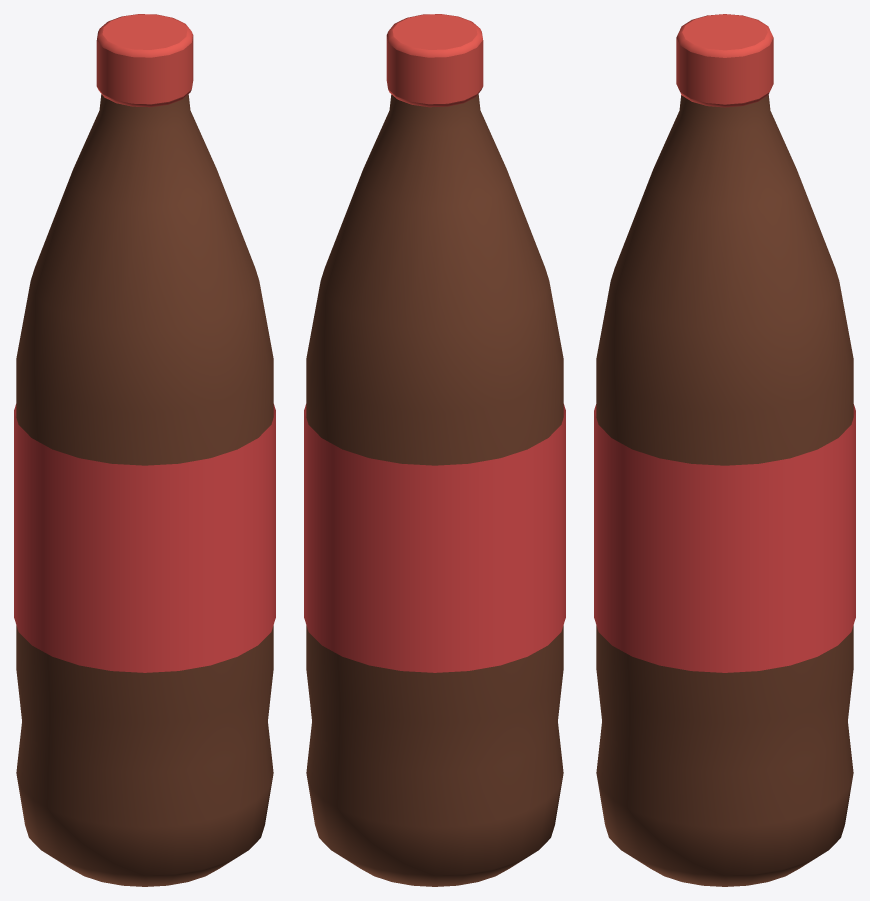
Rendered from ColaBottle.fbx.
3 renders of one model, left to right at view 1: azimuth 30°, elevation 25°; view 2: azimuth 150°, elevation 25°; view 3: azimuth 270°, elevation 25°, orthographic.
Parts seen in each view (by area): view 1: ColaBottle; view 2: ColaBottle; view 3: ColaBottle.
Boxes of the visible parts, left/top/right/bottom form: ColaBottle: left=14, top=14, right=275, bottom=886; ColaBottle: left=304, top=14, right=565, bottom=886; ColaBottle: left=594, top=14, right=855, bottom=886.
Size of the model in its own units: 0.0916 by 0.316 by 0.0916.
